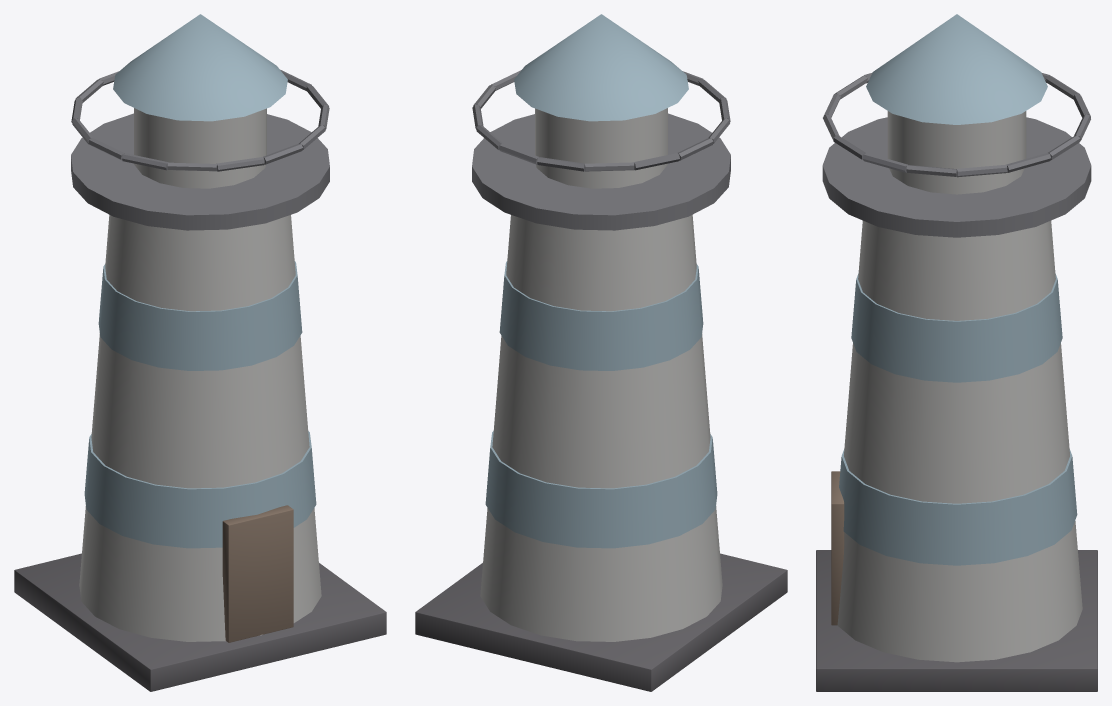
Rendered from perk_second_wind.gltf.
3 renders of one model, left to right at view 1: azimuth 30°, elevation 25°; view 2: azimuth 150°, elevation 25°; view 3: azimuth 270°, elevation 25°, orthographic. The views are drawn at different scales.
Visible parts, largest first — view 1: Body, Glow; view 2: Body, Glow; view 3: Body, Glow.
Boxes of the visible parts, x1,y1,x2,y2 form: Body: [14, 14, 386, 691]; Glow: [134, 108, 266, 188]; Body: [415, 14, 787, 691]; Glow: [535, 108, 667, 188]; Body: [816, 14, 1097, 691]; Glow: [887, 111, 1026, 194].
Size of the model in its own units: 1.3 by 3.15 by 1.3.
